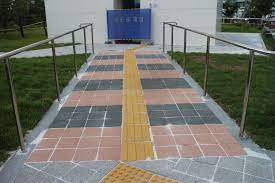guide_blocks: (122, 55, 153, 158)
